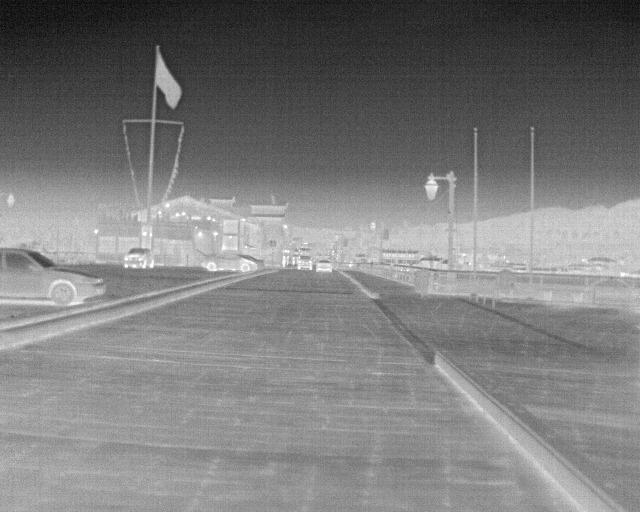car: (0, 245, 107, 309), (202, 250, 261, 272), (123, 245, 157, 268), (240, 254, 266, 272), (315, 258, 335, 275), (296, 256, 313, 272)
